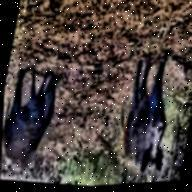boar: (107, 41, 187, 177), (1, 58, 70, 173)
